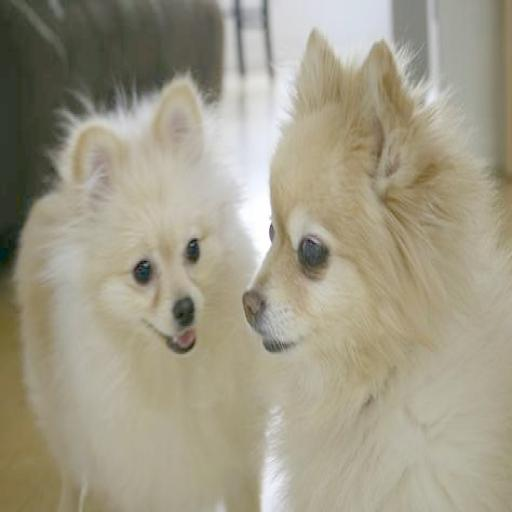dog_face: (250, 40, 425, 350), (70, 106, 223, 365)
